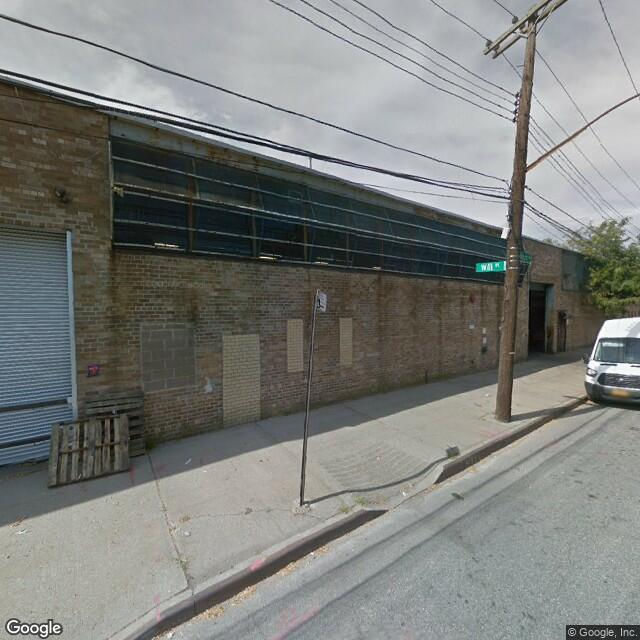litter: (309, 549, 317, 558), (485, 392, 491, 399), (186, 458, 192, 464), (402, 491, 407, 497)
